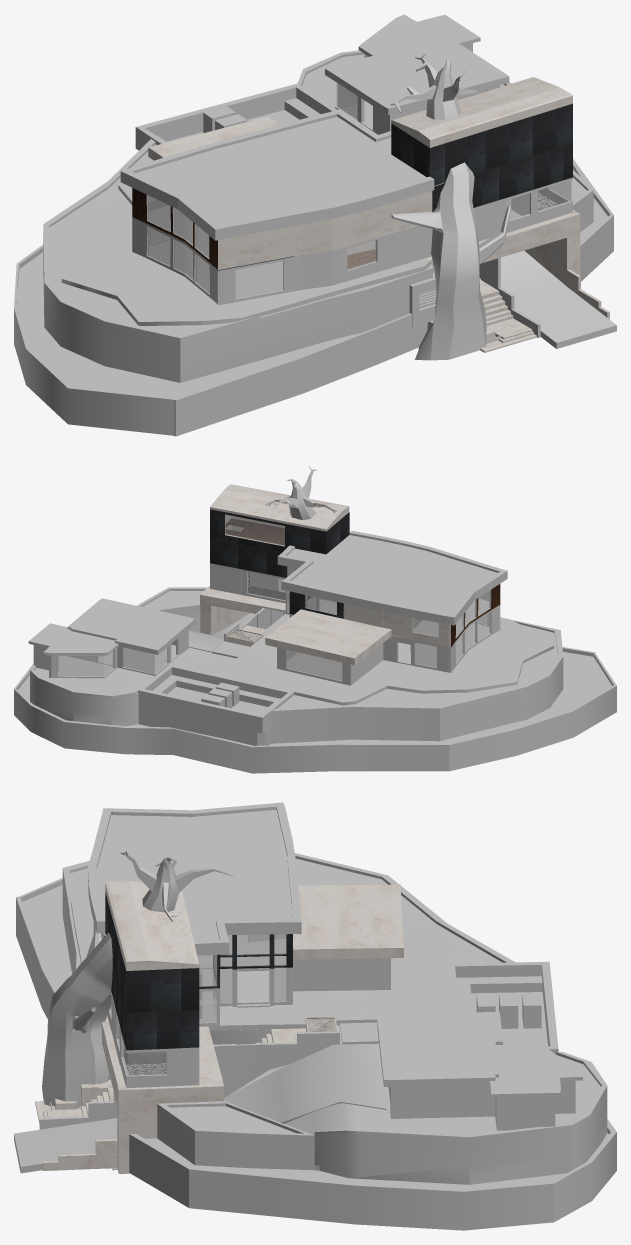
Rendered from MansionExp09.fbx.
3 views of the same model, one above another, from view 1: azimuth 30°, elevation 25°; view 2: azimuth 150°, elevation 25°; view 3: azimuth 270°, elevation 25° (orthographic). The views are drawn at different scales.
Parts seen in each view (by area): view 1: Mansion1; view 2: Mansion1; view 3: Mansion1.
Boxes of the visible parts, box(x1,y1,x2,y2) form: Mansion1: box(14, 14, 616, 436); Mansion1: box(14, 466, 616, 773); Mansion1: box(14, 802, 616, 1230).
Bounding box in the file's own units: 1868 × 709 × 1440.
